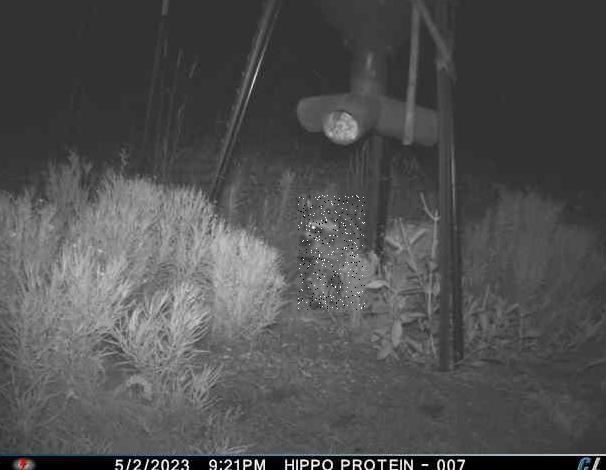Raccoon: (298, 195, 365, 310)
